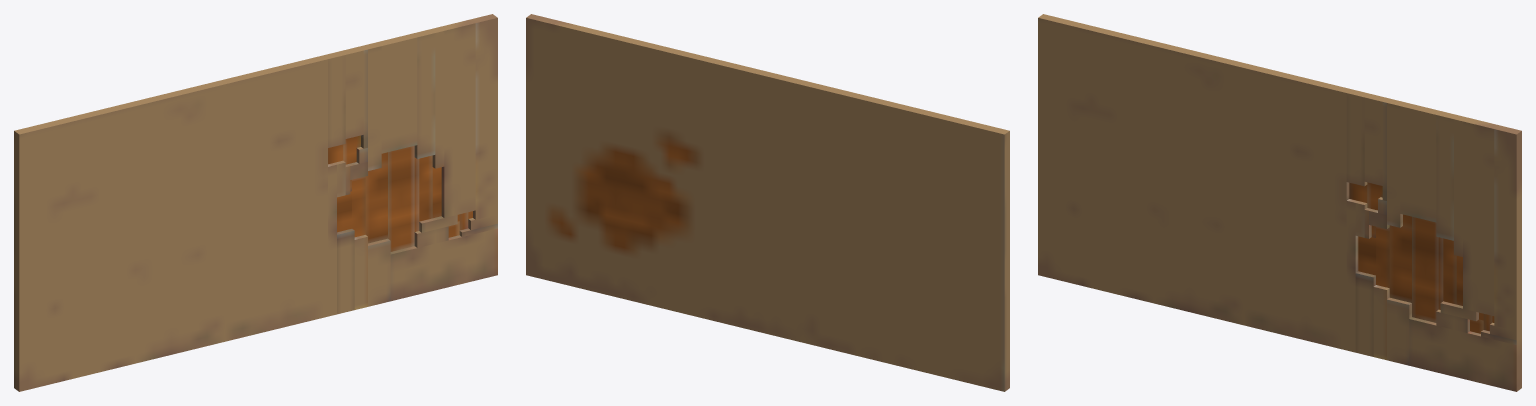
The model's file is WallLeftSideModeratelyDamaged_00.obj.
3 views of the same model, side by side, from view 1: azimuth 30°, elevation 25°; view 2: azimuth 150°, elevation 25°; view 3: azimuth 330°, elevation 25° (orthographic).
Parts seen in each view (by area): view 1: WallLeftSideModeratelyDamaged_00; view 2: WallLeftSideModeratelyDamaged_00; view 3: WallLeftSideModeratelyDamaged_00.
Boxes of the visible parts, x1=… form: WallLeftSideModeratelyDamaged_00: x1=14, y1=14, x2=497, y2=391; WallLeftSideModeratelyDamaged_00: x1=526, y1=14, x2=1009, y2=391; WallLeftSideModeratelyDamaged_00: x1=1038, y1=14, x2=1521, y2=391.
Bounding box in the file's own units: 5.35 × 2.75 × 0.1.
